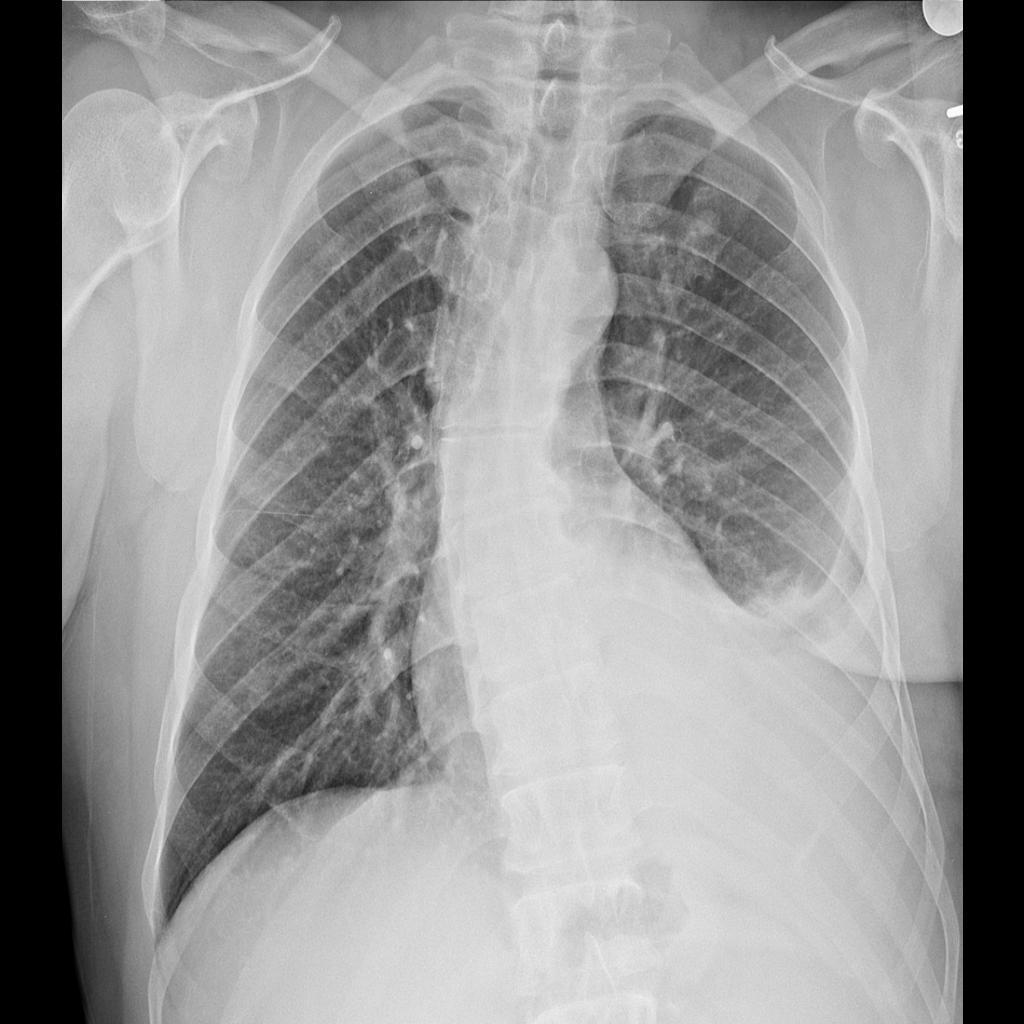Nodule: (694, 212, 720, 239)
